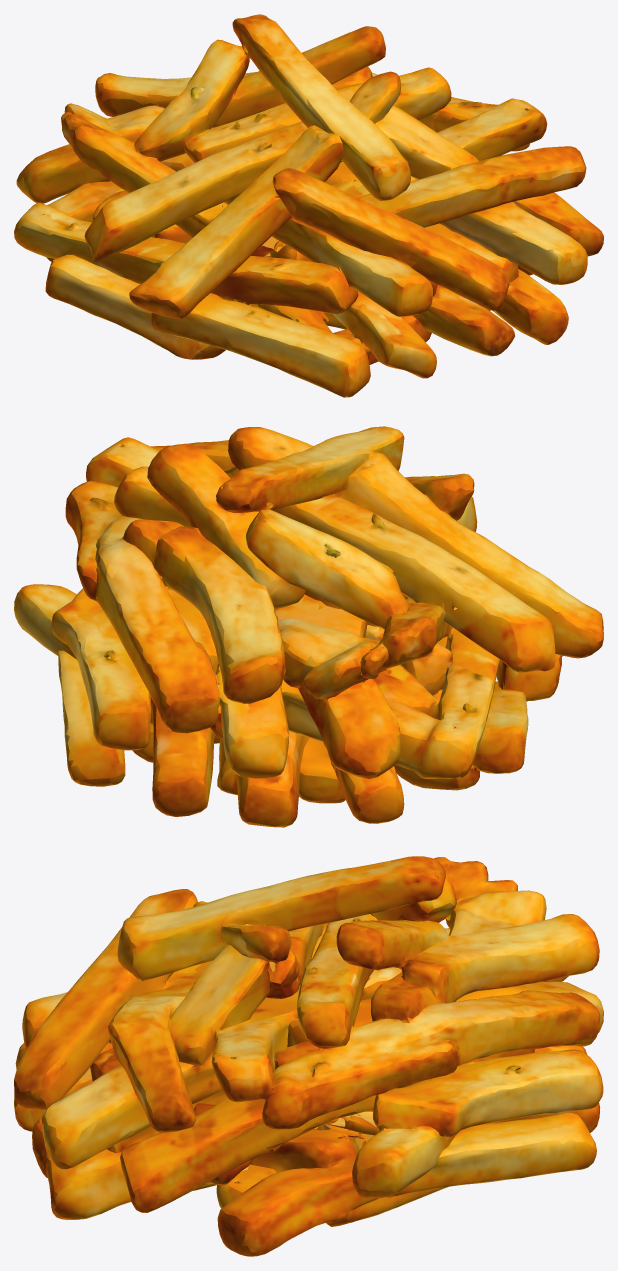
Rendered from rosemary-fries-0.glb.
3 views of the same model, one above another, from view 1: azimuth 30°, elevation 25°; view 2: azimuth 150°, elevation 25°; view 3: azimuth 270°, elevation 25° (orthographic). The views are drawn at different scales.
Parts seen in each view (by area): view 1: geometry_0; view 2: geometry_0; view 3: geometry_0.
Boxes of the visible parts, x1,y1,x2,y2 form: geometry_0: [14, 14, 603, 397]; geometry_0: [14, 426, 603, 827]; geometry_0: [14, 856, 603, 1256].
Bounding box in the file's own units: 0.1 × 0.0533 × 0.0999.
1 material, 1 textured.
